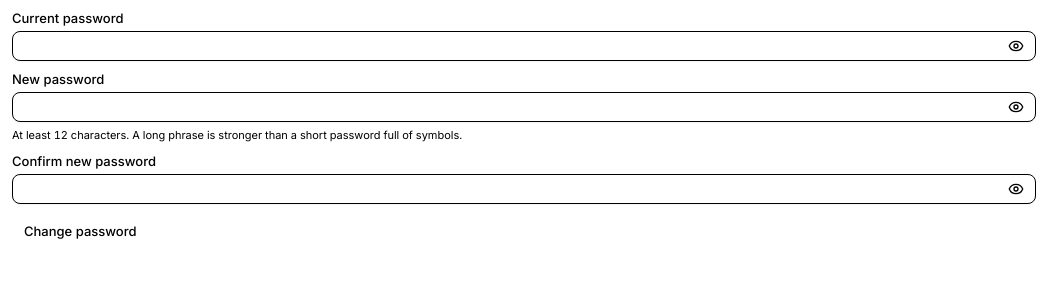
Test: PasswordForm › the meter appears while typing, with a text label and the broken rule
The image size is (1048, 293).
Type "short" into the password field labelled "New password".
click(524, 107); type("short")  # box [12,92,1036,122]
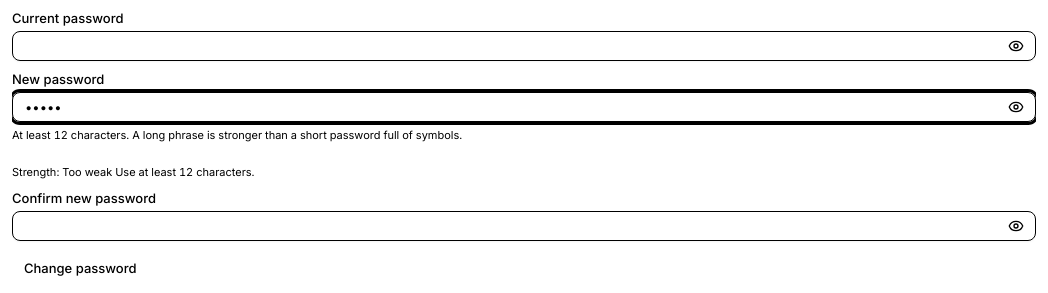
Expected: the element with test id "password-meter" reads "Strength: Too weak Use at least 12 characters.", [12,165,255,179]
Type "Correct horse battery 9" into the password field labelled "New password".
click(524, 107); type("Correct horse battery 9")  # box [12,92,1036,122]
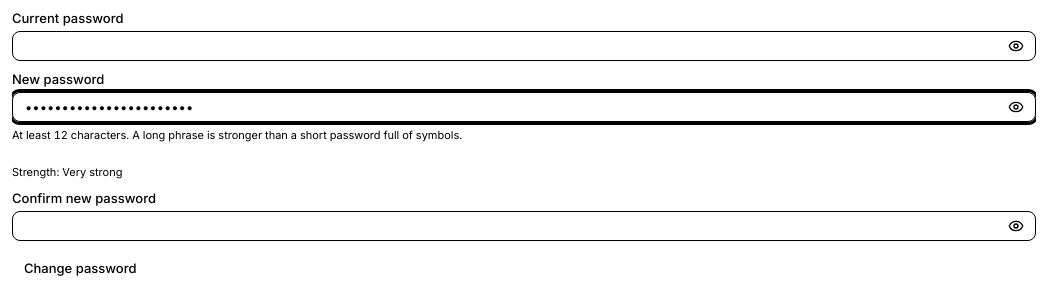
Expected: the element with test id "password-meter" reads "Strength: Very strong", [12,165,122,179]
